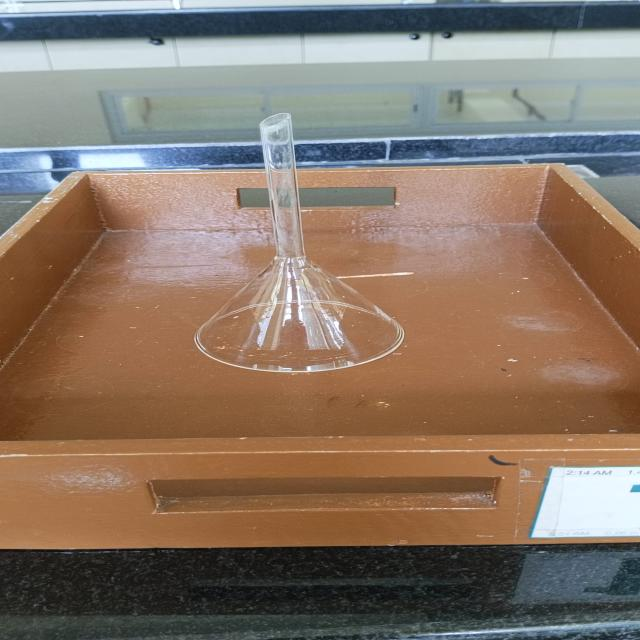funnel: (177, 111, 410, 376)
